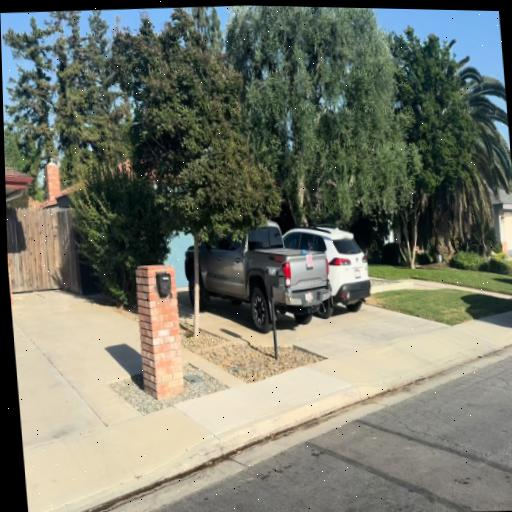bullseye: (307, 254, 313, 267)
